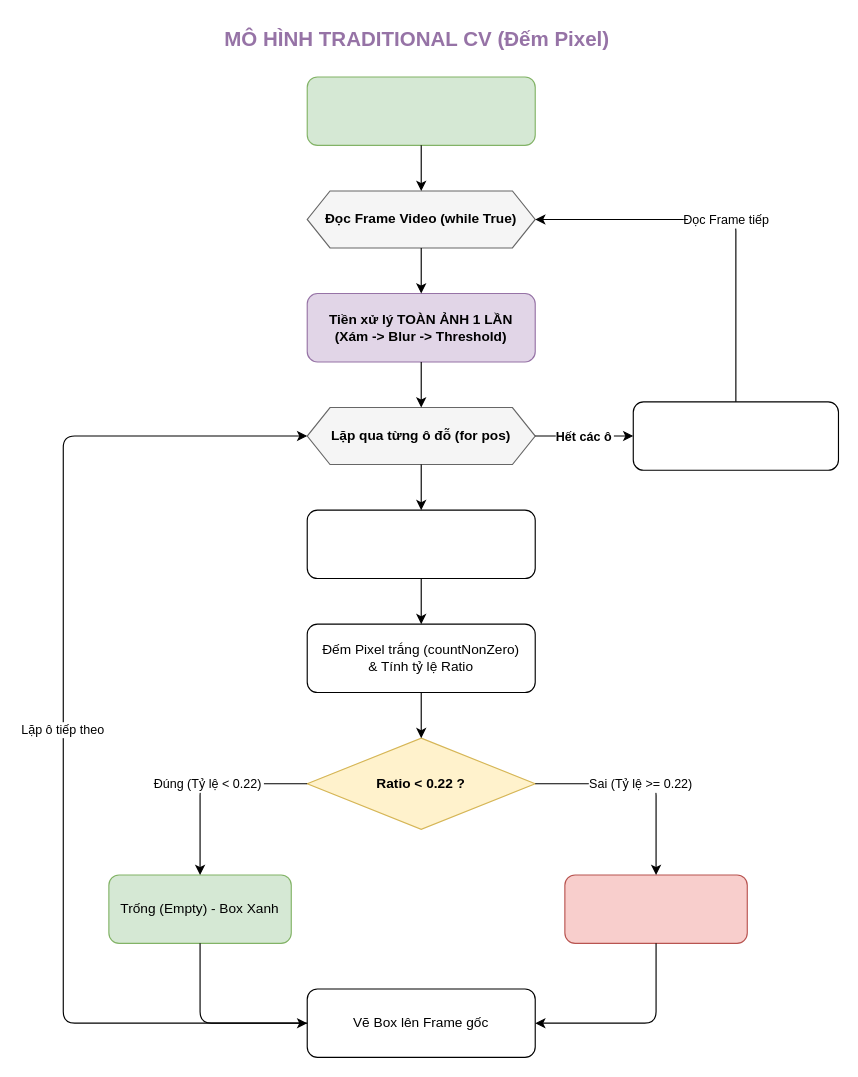
Image size: 858x1077. Some labels were removed from this diagram. Each missing label, with the centre of its shape:
"Bắt đầu & Lấy tọa độ bãi đỗ" goes at point 420,110.
"Có xe (Occupied) - Box Đỏ" goes at point 655,908.
"Cắt vùng đỗ xe (Crop 40x19) từ ảnh Threshold" goes at point 420,544.
"Hiển thị Video (cv2.imshow)" goes at point 735,435.
